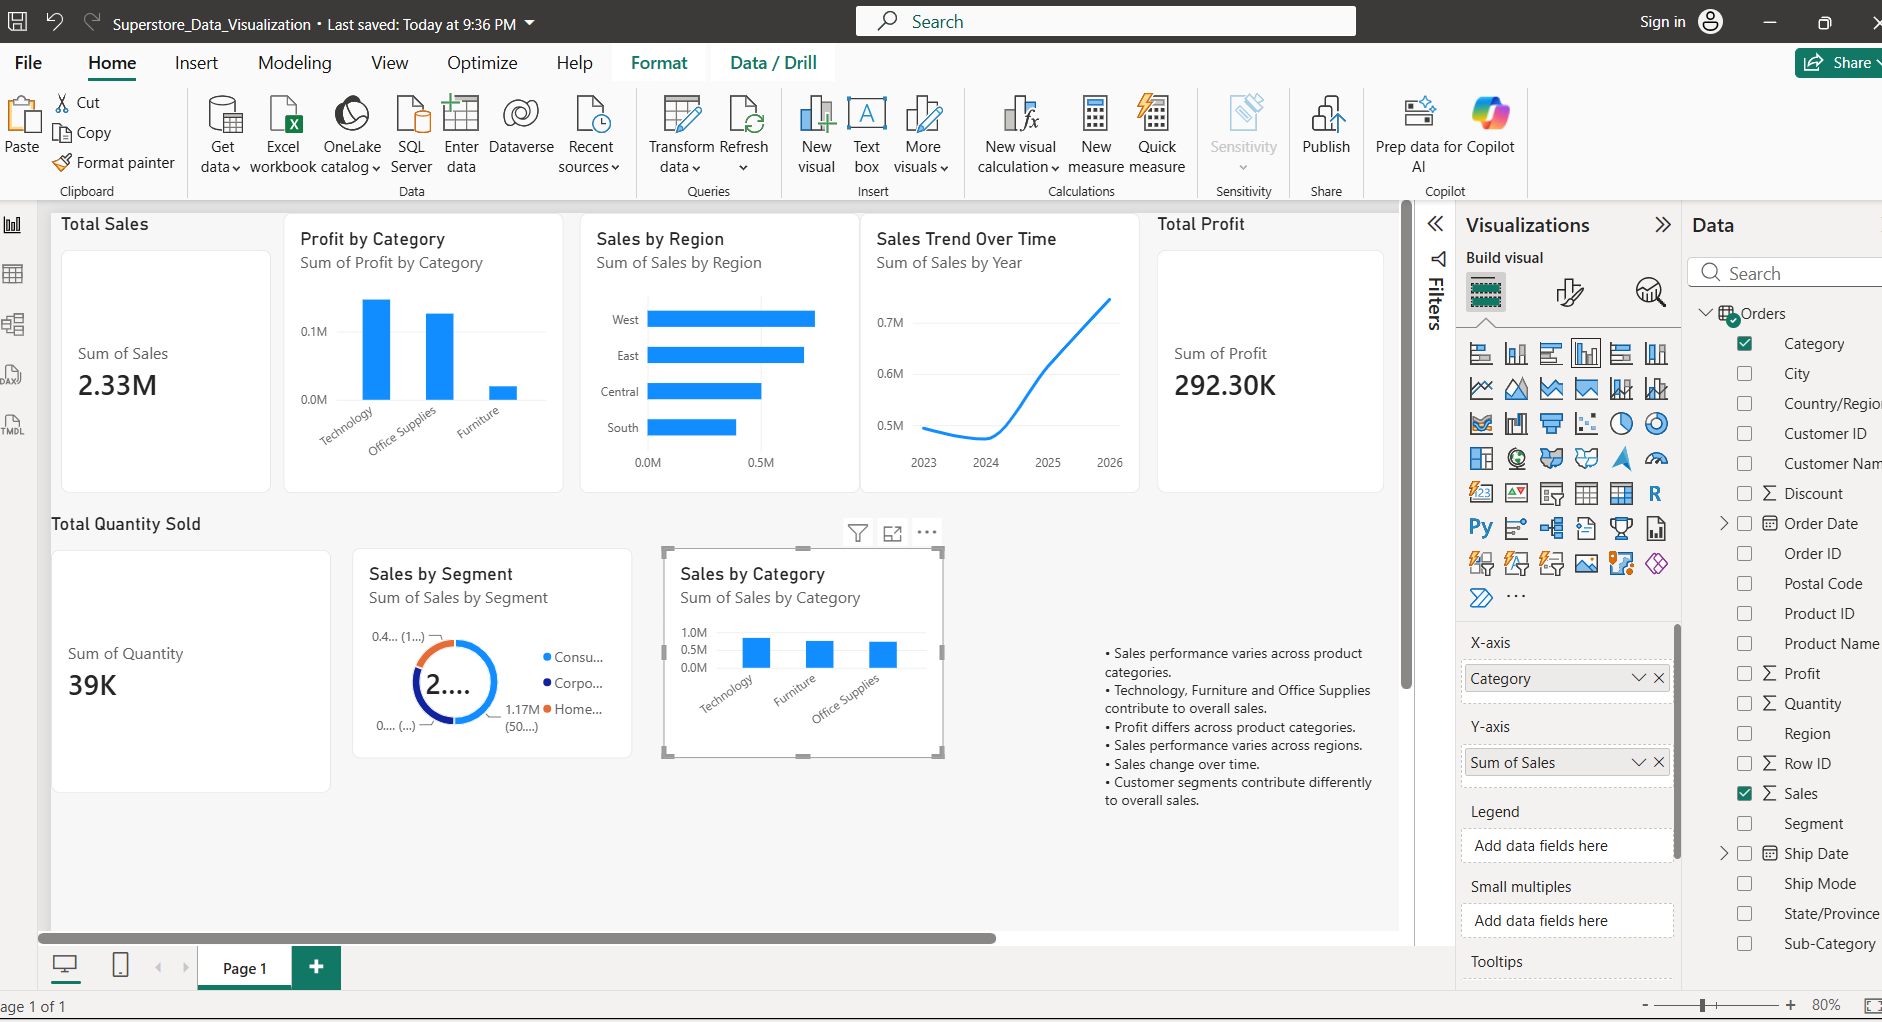

Layout of this report page (visuals, bound fields, positions):
{"tool":"powerbi","page":{"name":"Page 1","canvas":[1920,1080],"ordinal":0},"visuals":[{"type":"cardVisual","title":"Total Sales","fields":{"Data":["Sum(Orders.Sales)"]},"box":[10,0,210,280],"z":0},{"type":"cardVisual","title":"Total Profit","fields":{"Data":["Sum(Orders.Profit)"]},"box":[1106.2,0,227.5,280],"z":1000},{"type":"cardVisual","title":"  Total Quantity Sold ","fields":{"Data":["Sum(Orders.Quantity)"]},"box":[0,300,280,280],"z":2000},{"type":"clusteredColumnChart","title":"Sales by Category","fields":{"Category":["Orders.Category"],"Y":["Sum(Orders.Sales)"]},"box":[612.5,335,280,210],"z":3000},{"type":"clusteredColumnChart","title":"Profit by Category","fields":{"Category":["Orders.Category"],"Y":["Sum(Orders.Profit)"]},"box":[232.5,0,280,280],"z":4000},{"type":"clusteredBarChart","title":"Sales by Region","fields":{"Category":["Orders.Region"],"Y":["Sum(Orders.Sales)"]},"box":[528.8,0,280,280],"z":5000},{"type":"lineChart","title":"Sales Trend Over Time","fields":{"Category":["Orders.Order Date.Variation.Date Hierarchy.Year","Orders.Order Date.Variation.Date Hierarchy.Quarter","Orders.Order Date.Variation.Date Hierarchy.Month","Orders.Order Date.Variation.Date Hierarchy.Day"],"Y":["Sum(Orders.Sales)"]},"box":[808.8,0,280,280],"z":6000},{"type":"donutChart","title":"Sales by Segment","fields":{"Category":["Orders.Segment"],"Y":["Sum(Orders.Sales)"]},"box":[301.2,335,280,210],"z":7000},{"type":"textbox","box":[1053.8,430,280,167.5],"z":8000}]}

Visuals, with their boxes on the page's 1920x1080 design canvas (x1, y1, x2, y2). These are canvas units, not pixel positions in the 1882x1022 screenshot, which may show the page scaled, cropped or inside an application window:
"Total Sales" cardVisual: 10:0:220:280
"Total Profit" cardVisual: 1106:0:1334:280
"  Total Quantity Sold " cardVisual: 0:300:280:580
"Sales by Category" clusteredColumnChart: 612:335:892:545
"Profit by Category" clusteredColumnChart: 232:0:512:280
"Sales by Region" clusteredBarChart: 529:0:809:280
"Sales Trend Over Time" lineChart: 809:0:1089:280
"Sales by Segment" donutChart: 301:335:581:545
textbox: 1054:430:1334:598
